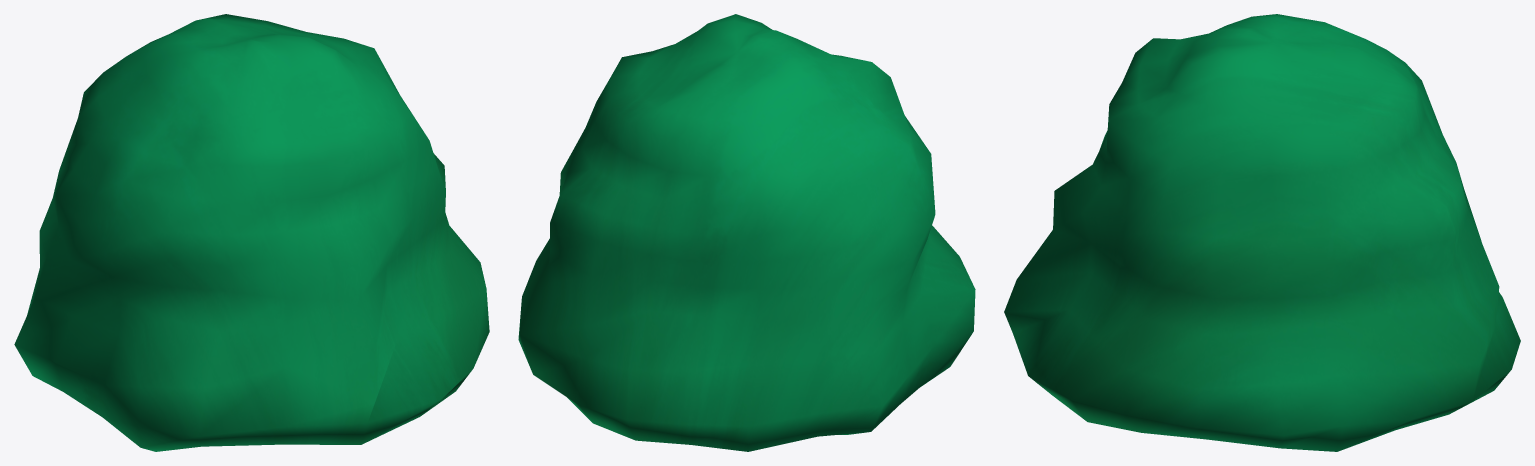
Rendered from SM_BushCin_Low.fbx.
3 renders of one model, left to right at view 1: azimuth 30°, elevation 25°; view 2: azimuth 150°, elevation 25°; view 3: azimuth 270°, elevation 25°, orthographic. The views are drawn at different scales.
Visible parts, largest first — view 1: SM_BushCin_Low; view 2: SM_BushCin_Low; view 3: SM_BushCin_Low.
Part boxes in pixels (x1,y1,x2,y2): SM_BushCin_Low: [14, 14, 489, 451]; SM_BushCin_Low: [518, 14, 975, 451]; SM_BushCin_Low: [1004, 14, 1520, 451].
Bounding box in the file's own units: 3.28 × 2.85 × 3.57.
